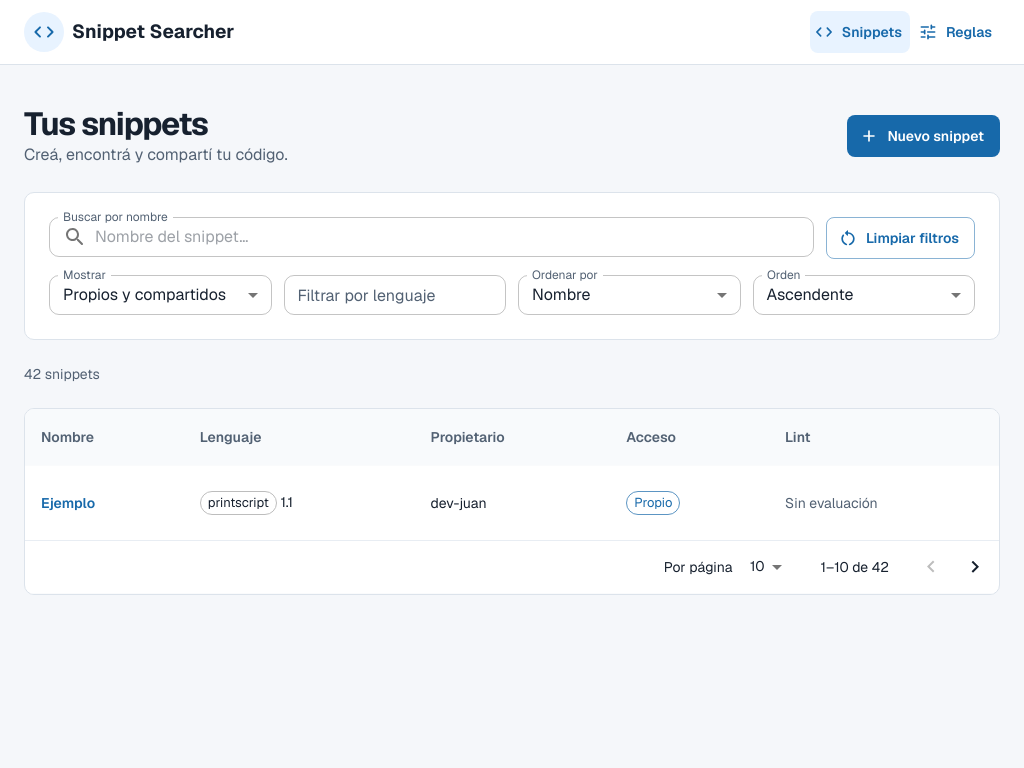
Test case: SNI-35 search, pagination and feedback › recovers a valid page when the server total shrinks
The width and height of the screenshot is (1024, 768).
Click the button named "Página siguiente": (975,567) [953,545,997,589]
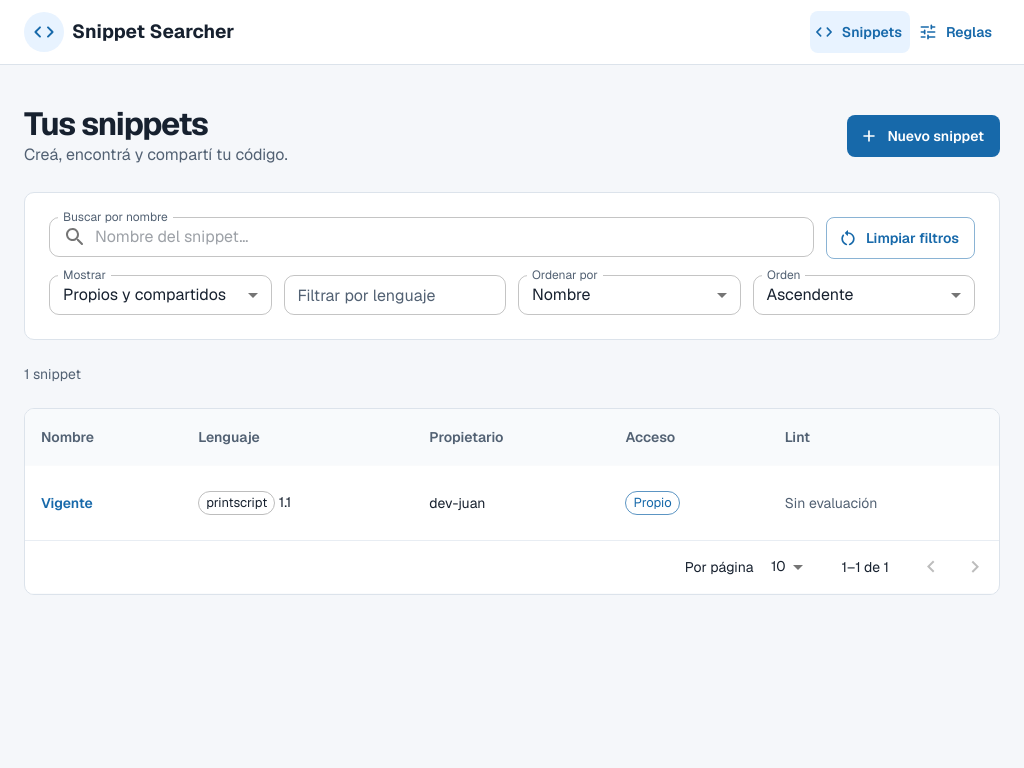
Expected: the button named "Página anterior" is disabled, [909,545,953,589]
Expected: the button "Vigente" is shown, [41,482,93,524]
